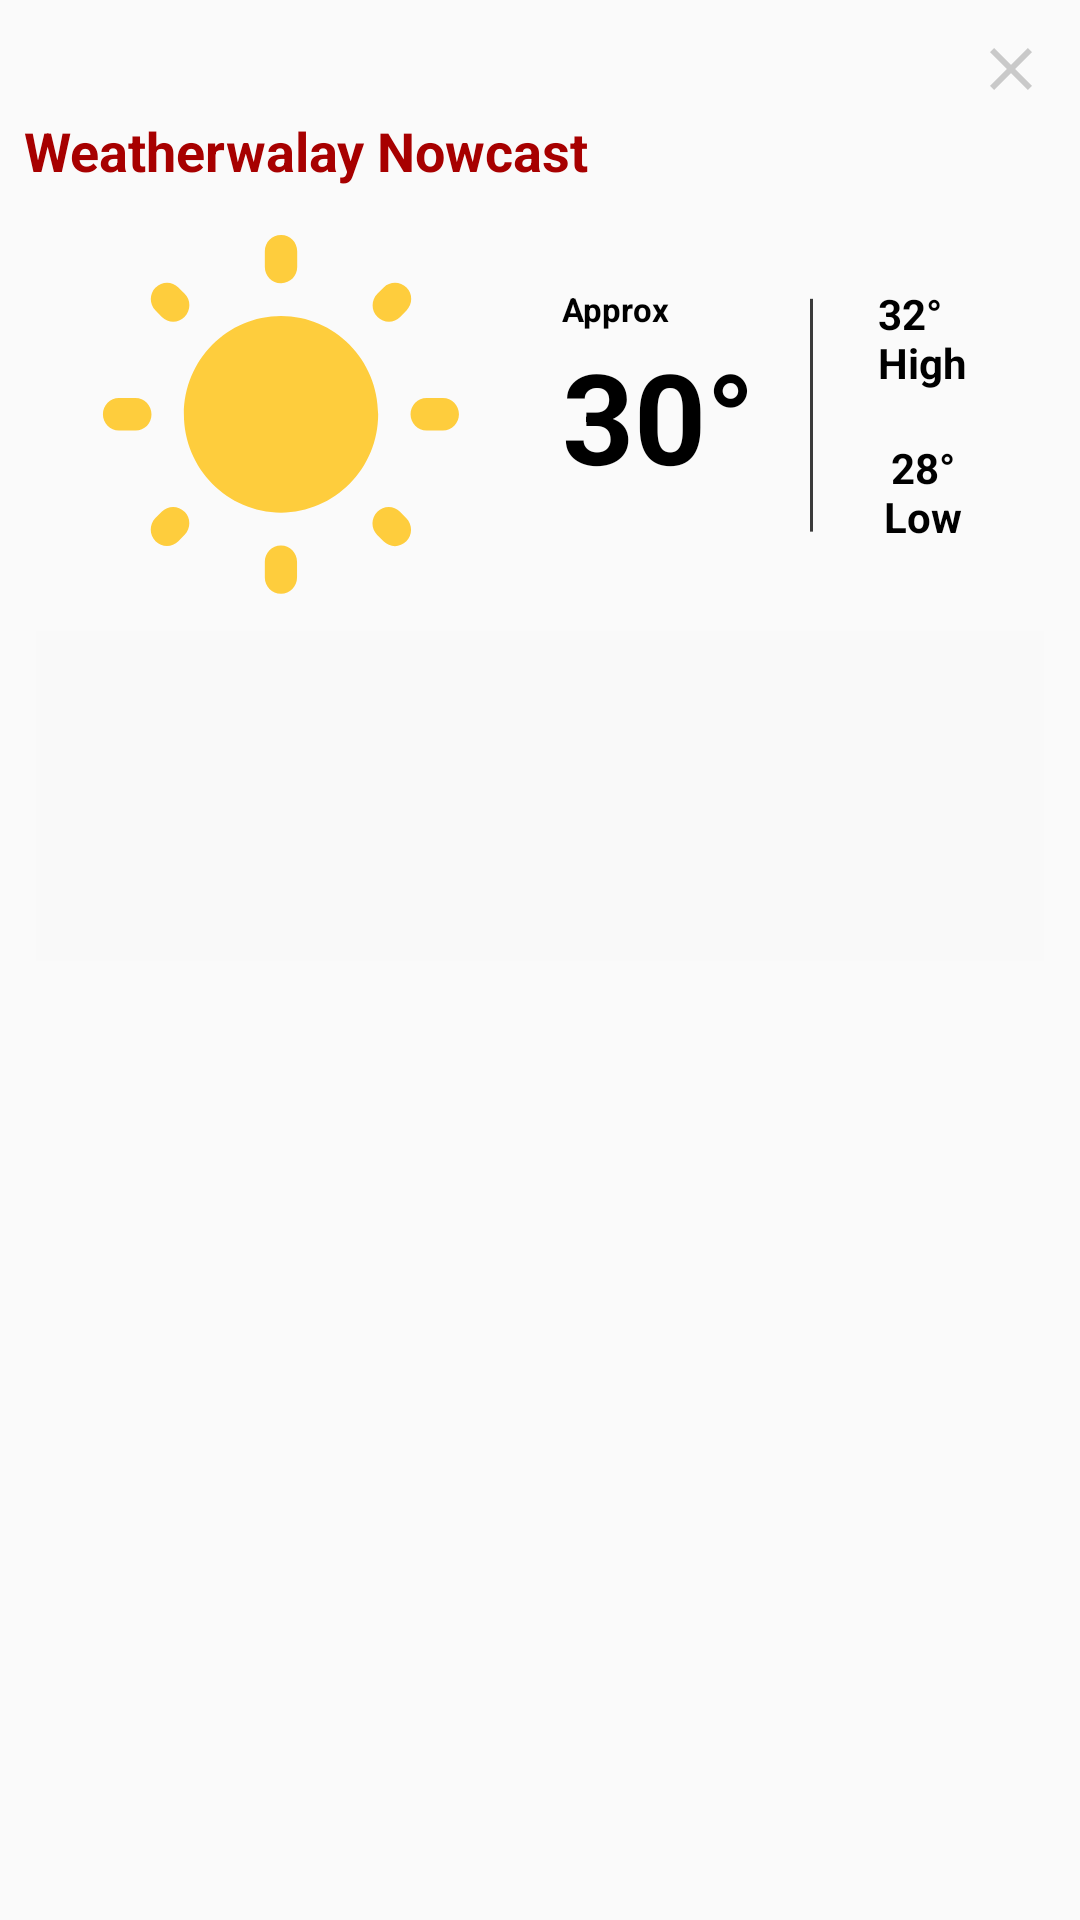

Named icons in this screenshot (1080×1920) and their centers, (x=x, y=y):
close: (x=1011, y=69)
sunny: (x=281, y=414)
